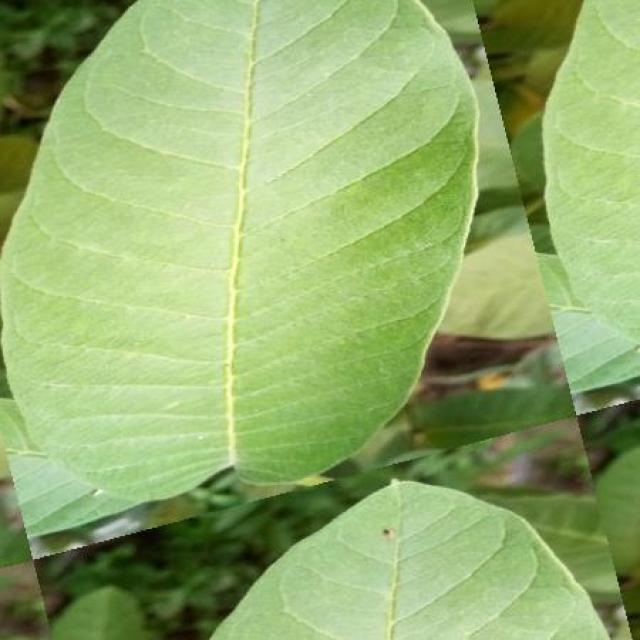Disease Free: (2, 0, 476, 502), (211, 481, 609, 639), (542, 0, 640, 401)
